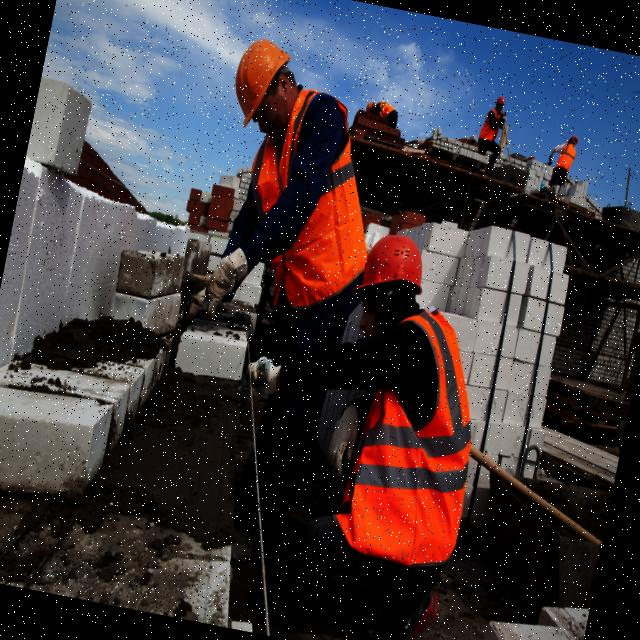Helmet: (351, 229, 433, 312), (229, 36, 295, 138), (497, 97, 508, 109), (568, 136, 580, 147), (366, 101, 375, 114)
Jacket: (325, 304, 478, 562), (243, 93, 391, 308), (480, 108, 505, 143), (559, 144, 577, 176), (373, 101, 397, 120)
